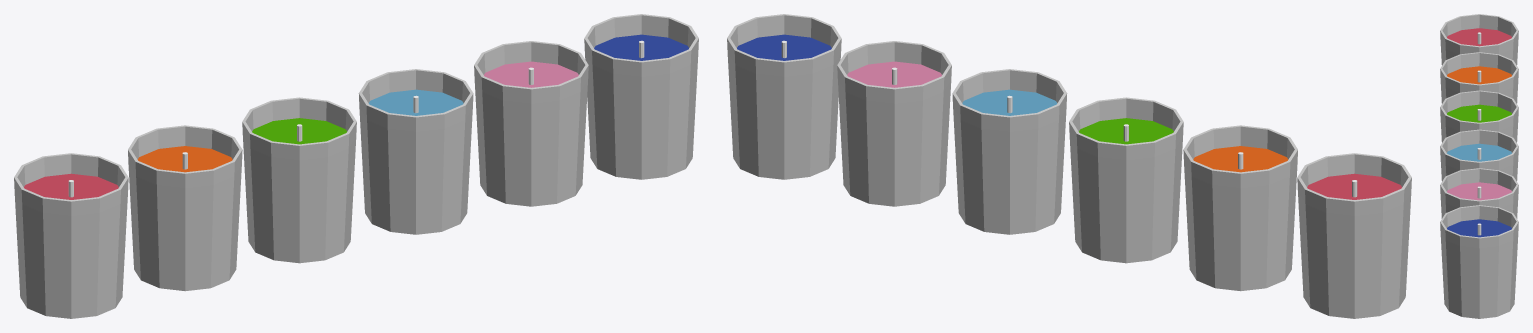
Rendered from b168aff0-9d10-447d-96fd-21ee309f89c4.glb.
3 views of the same model, side by side, from view 1: azimuth 30°, elevation 25°; view 2: azimuth 150°, elevation 25°; view 3: azimuth 270°, elevation 25° (orthographic). The views are drawn at different scales.
Parts seen in each view (by area): view 1: Node; view 2: Node; view 3: Node.
Part boxes in pixels (x1,y1,x2,y2): Node: [14, 14, 698, 318]; Node: [727, 14, 1411, 318]; Node: [1440, 14, 1518, 318].
Size of the model in its own units: 12.89 by 2.21 by 1.91.
